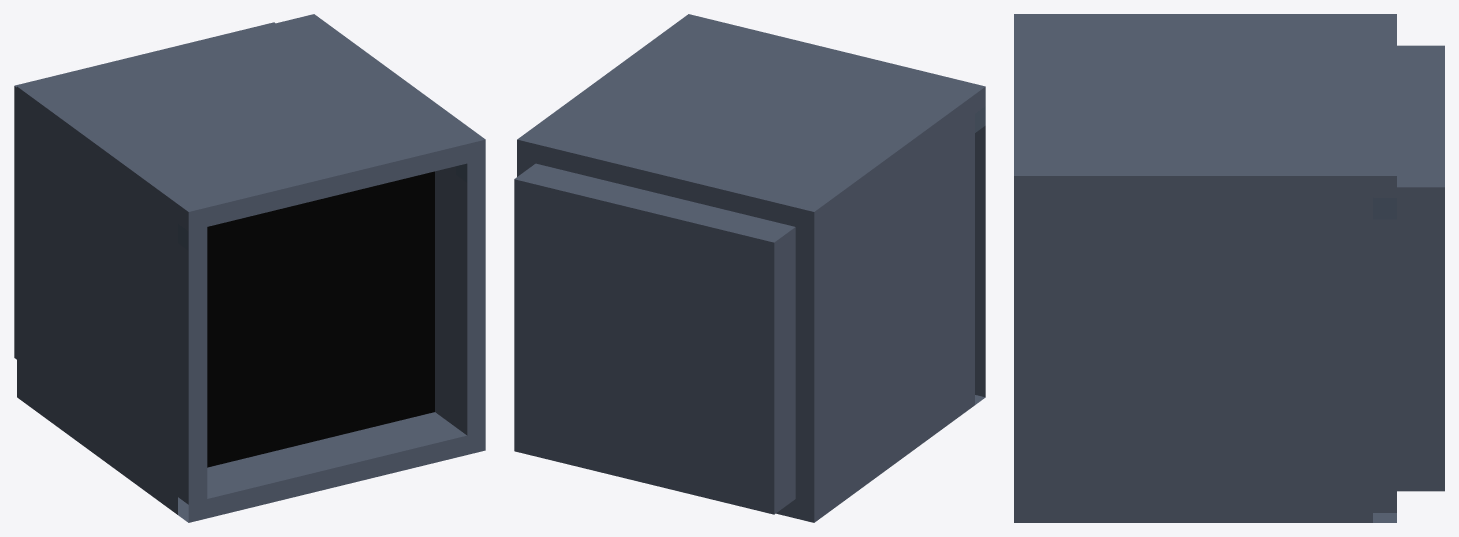
Rendered from monitor.gltf.
3 views of the same model, side by side, from view 1: azimuth 30°, elevation 25°; view 2: azimuth 150°, elevation 25°; view 3: azimuth 270°, elevation 25° (orthographic). The views are drawn at different scales.
Parts seen in each view (by area): view 1: cube (×5), screen; view 2: cube (×4); view 3: cube (×4).
Part boxes in pixels (x1,y1,x2,y2): cube (×5): (14, 14, 485, 522); screen: (207, 171, 434, 467); cube (×4): (514, 14, 985, 522); cube (×4): (1014, 14, 1444, 522).
Bounding box in the file's own units: 1 × 1 × 1.12.
2 materials, 2 textured.
